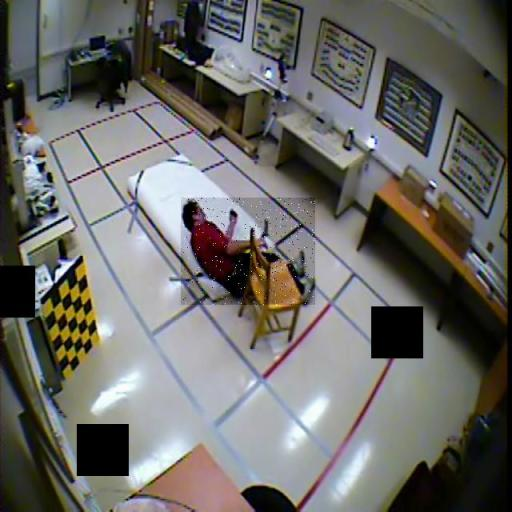Fall: (181, 198, 315, 305)
